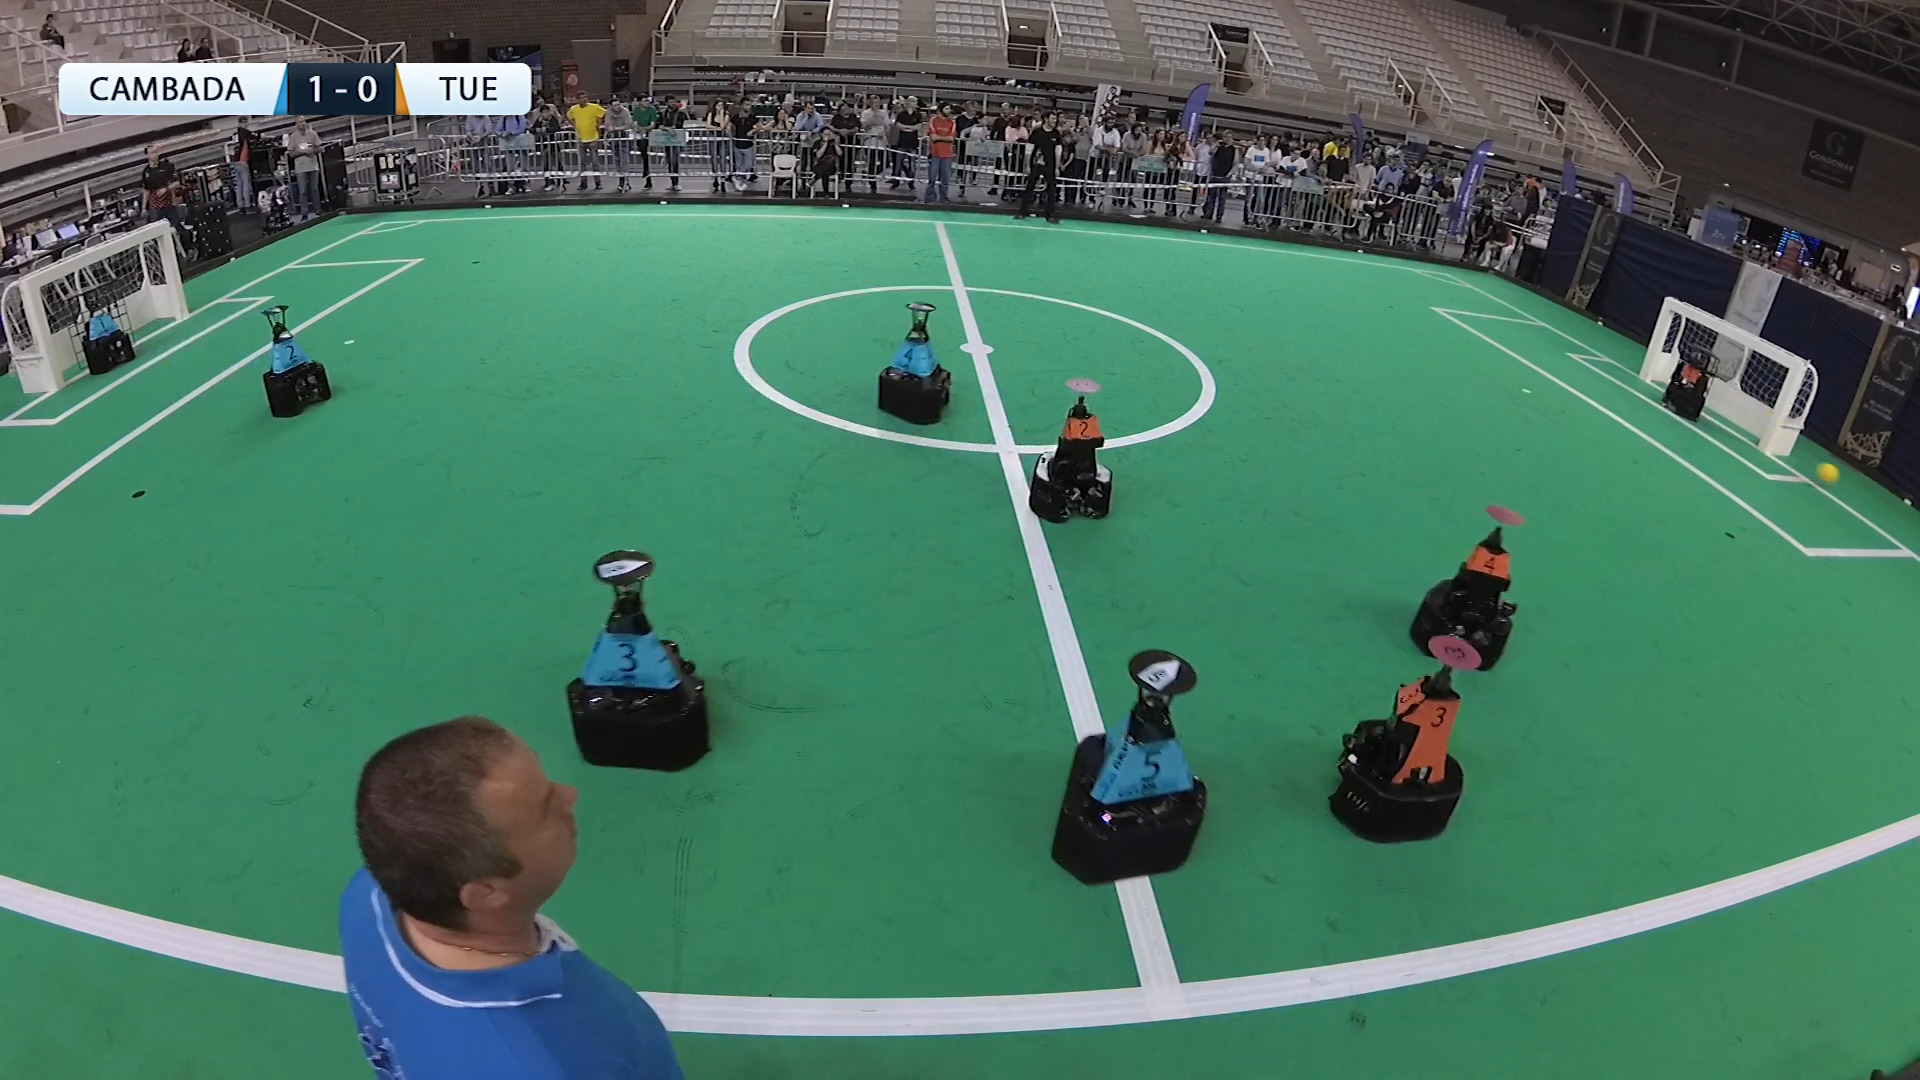BALL: (1815, 458, 1841, 485)
BLUE2: (255, 305, 339, 422)
BLUE3: (543, 537, 753, 791)
BLUE4: (860, 287, 967, 433)
BLUE5: (1050, 633, 1209, 895)
B_Goalie: (65, 290, 152, 365)
RED2: (1021, 365, 1117, 527)
RED3: (1319, 629, 1485, 858)
RED4: (1406, 510, 1528, 676)
R_Goalie: (1660, 347, 1720, 418)
Referee: (326, 713, 684, 1080)
